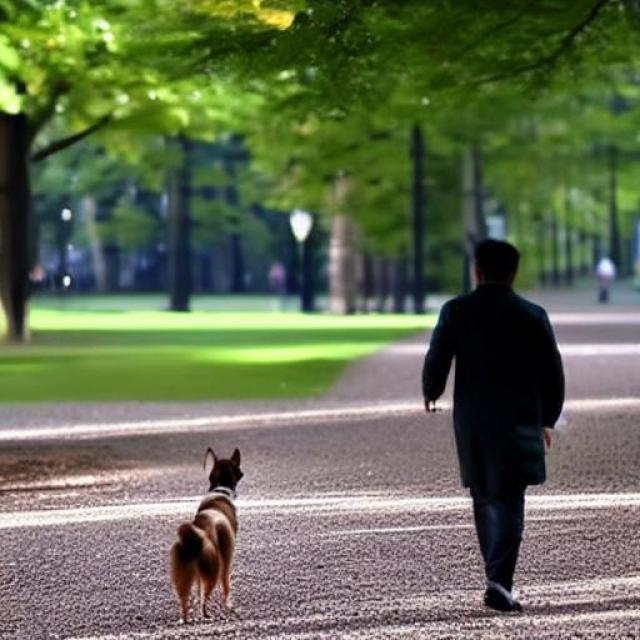Unleashed_Dog: (171, 398, 543, 623)
